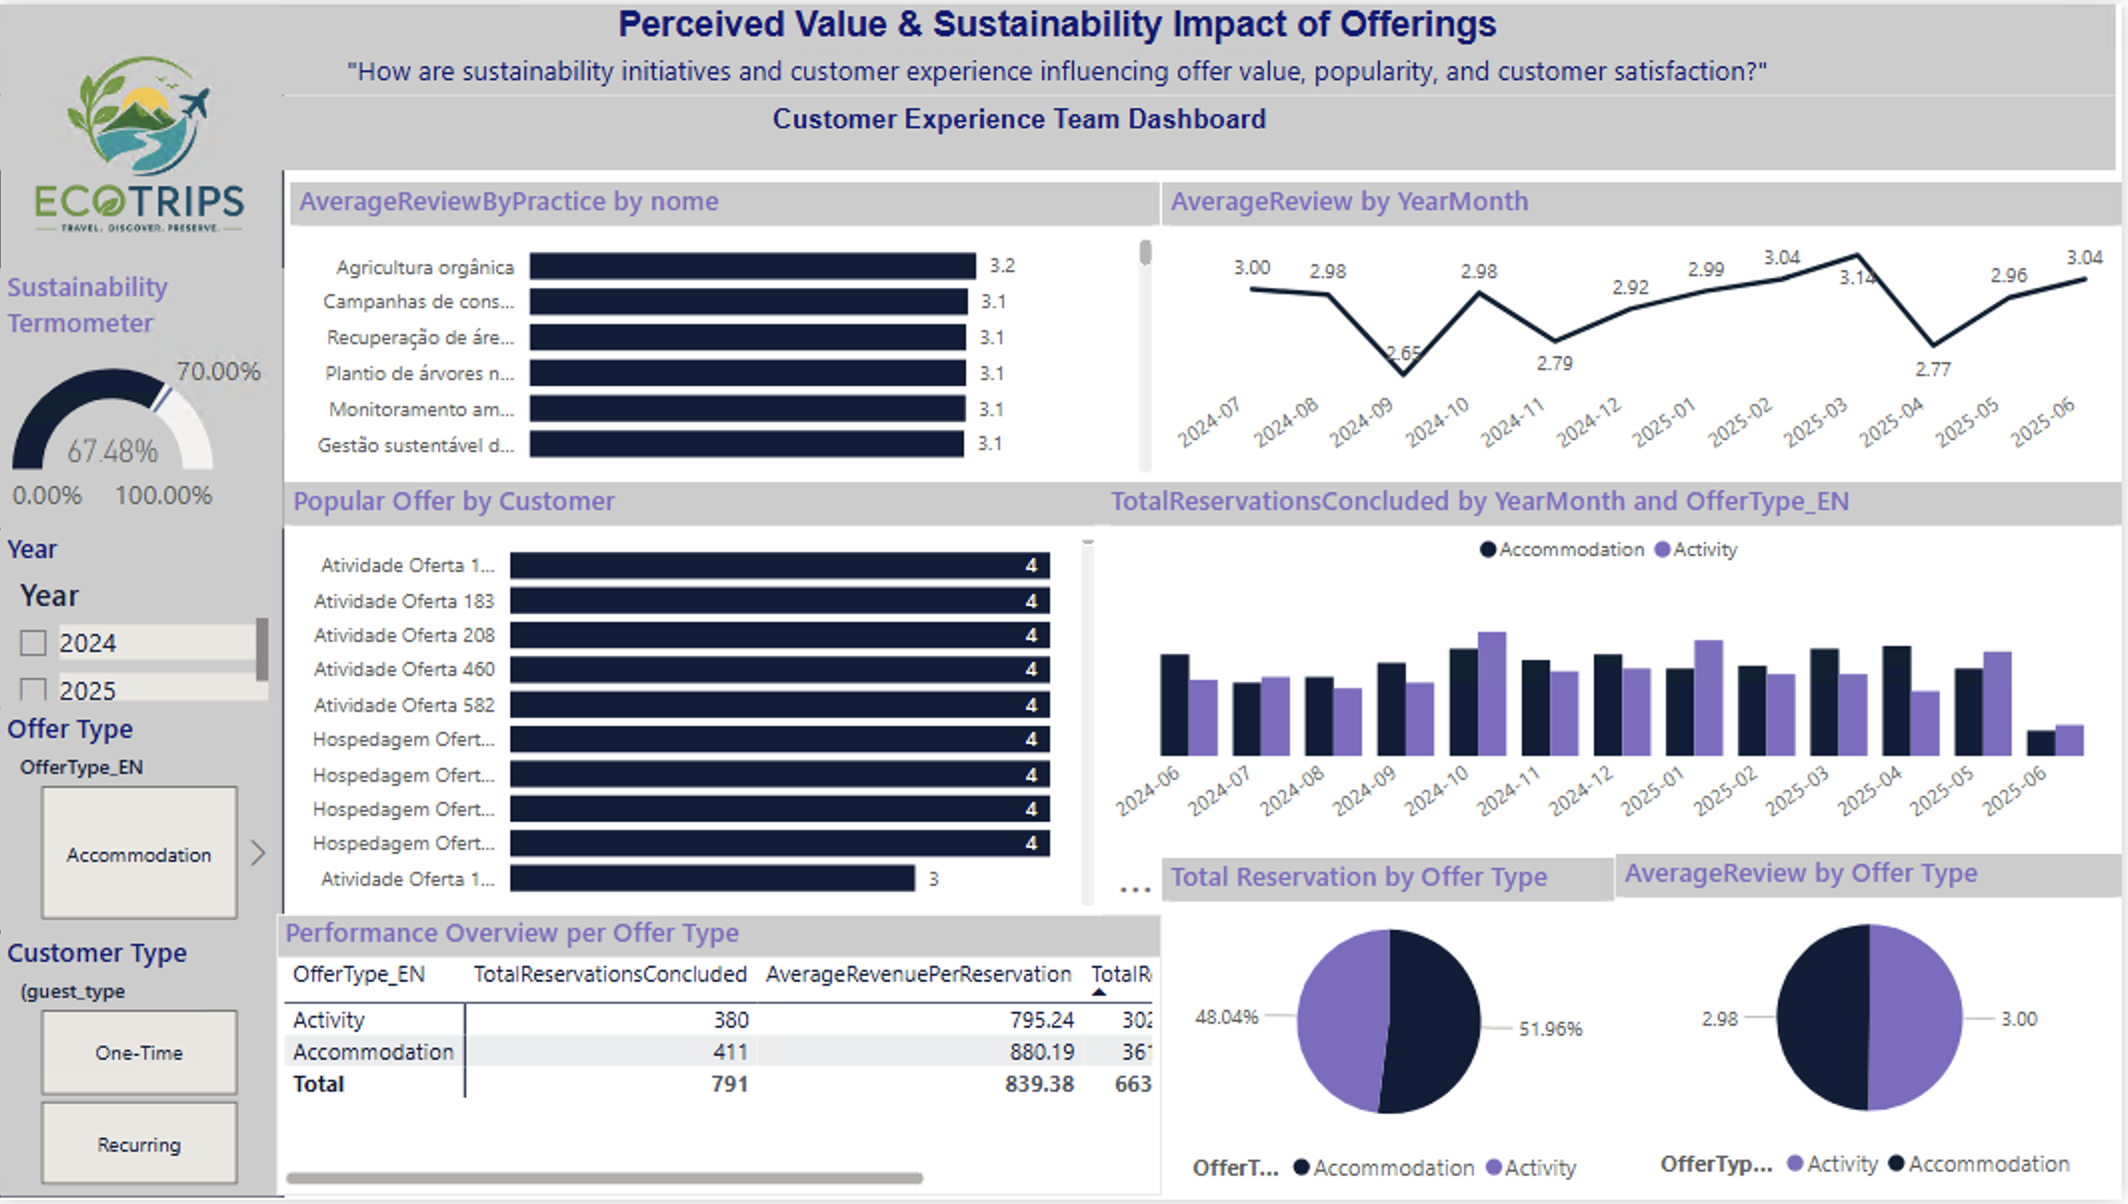

Layout of this report page (visuals, bound fields, positions):
{"tool":"powerbi","page":{"name":"Sustainability Impact ","canvas":[1280,720],"ordinal":1},"visuals":[{"type":"group","id":"g1","title":"Group 3","box":[0,0,1276.2,719.8],"z":0},{"type":"shape","box":[0,1.4,172,718.4],"z":0,"group":"g1"},{"type":"group","id":"g2","title":"Group 2","box":[0,425.9,167.7,134.4],"z":1000},{"type":"slicer","title":"Year","fields":{"Values":["ecotrips_calendar.Year"]},"box":[0,317,168.3,108.2],"z":2000},{"type":"image","box":[0,0,172.5,183.2],"z":3000},{"type":"slicer","title":"Customer Type","fields":{"Values":["ecotrips_reservation.(guest_type"]},"box":[0,560.3,167.7,158.2],"z":4000},{"type":"gauge","title":"Sustainability Termometer","fields":{"Y":["(ecotrips_measures).%SustainableOffers"]},"box":[0,159.4,172.5,157],"z":5000},{"type":"pivotTable","title":"Performance Overview per Offer Type","fields":{"Rows":["ecotrips_offer.OfferType_EN"],"Values":["(ecotrips_measures).TotalReservationsConcluded","(ecotrips_measures).AverageReservation","(ecotrips_measures).TotalRevenue","(ecotrips_measures).AverageReview"]},"box":[167.8,548.4,532.9,169.2],"z":6000},{"type":"pieChart","title":"Total Reservation by Offer Type","fields":{"Y":["(ecotrips_measures).TotalReservationsConcluded"],"Category":["ecotrips_offer.OfferType_EN"]},"box":[700.6,514.5,273.5,205.8],"z":7000},{"type":"pieChart","title":"AverageReview by Offer Type","fields":{"Category":["ecotrips_offer.OfferType_EN"],"Y":["(ecotrips_measures).AverageReview"]},"box":[974.1,511.7,305.9,205.8],"z":8000},{"type":"slicer","title":"Offer Type","fields":{"Values":["ecotrips_offer.OfferType_EN"]},"box":[0,425.9,167.7,133.4],"z":8500,"group":"g2"},{"type":"barChart","title":"Popular Offer by Customer","fields":{"Category":["ecotrips_offer.titulo"],"Y":["(ecotrips_measures).TotalCustomers"]},"box":[172,287.6,493.4,260.8],"z":9000},{"type":"shape","title":"Perceived Value & Sustainability Impact  of Offerings","box":[0,0,1276.2,100.4],"z":10000,"group":"g3"},{"type":"lineClusteredColumnComboChart","fields":{"Category":["ecotrips_calendar.YearMonth"],"Y":["(ecotrips_measures).TotalReservationsConcluded"],"Series":["ecotrips_offer.OfferType_EN"]},"box":[665.4,287.6,614.6,224.1],"z":10000},{"type":"textbox","title":"Customer Experience Team Dashboard","box":[459.6,60.6,313,26.8],"z":11000,"group":"g3"},{"type":"barChart","fields":{"Category":["ecotrips_sustainable_practice.nome"],"Y":["(ecotrips_measures).AverageReviewByPractice"]},"box":[176.2,107.1,524.4,180.4],"z":11000},{"type":"group","id":"g3","title":"Group 1","box":[0,0,1276.2,100.4],"z":11001,"group":"g1"},{"type":"lineChart","fields":{"Category":["ecotrips_calendar.YearMonth"],"Y":["(ecotrips_measures).AverageReview"]},"box":[700.6,107.1,579.4,180.4],"z":12000}]}

Visuals, with their boxes in screenshot pixels (x1, y1, x2, y2), scaled from the page's 1280x720 canvas onto the 2128x1204 screenshot:
"Group 3" group: crop(0, 0, 2122, 1203)
shape: crop(0, 2, 286, 1203)
"Group 2" group: crop(0, 712, 279, 937)
"Year" slicer: crop(0, 530, 280, 711)
image: crop(0, 0, 287, 306)
"Customer Type" slicer: crop(0, 937, 279, 1201)
"Sustainability Termometer" gauge: crop(0, 267, 287, 529)
"Performance Overview per Offer Type" pivotTable: crop(279, 917, 1165, 1200)
"Total Reservation by Offer Type" pieChart: crop(1165, 860, 1619, 1203)
"AverageReview by Offer Type" pieChart: crop(1619, 856, 2127, 1200)
"Offer Type" slicer: crop(0, 712, 279, 935)
"Popular Offer by Customer" barChart: crop(286, 481, 1106, 917)
"Perceived Value & Sustainability Impact  of Offerings" shape: crop(0, 0, 2122, 168)
lineClusteredColumnComboChart - ecotrips_calendar.YearMonth x (ecotrips_measures).TotalReservationsConcluded: crop(1106, 481, 2127, 856)
"Customer Experience Team Dashboard" textbox: crop(764, 101, 1284, 146)
barChart - ecotrips_sustainable_practice.nome x (ecotrips_measures).AverageReviewByPractice: crop(293, 179, 1165, 481)
"Group 1" group: crop(0, 0, 2122, 168)
lineChart - ecotrips_calendar.YearMonth x (ecotrips_measures).AverageReview: crop(1165, 179, 2127, 481)
